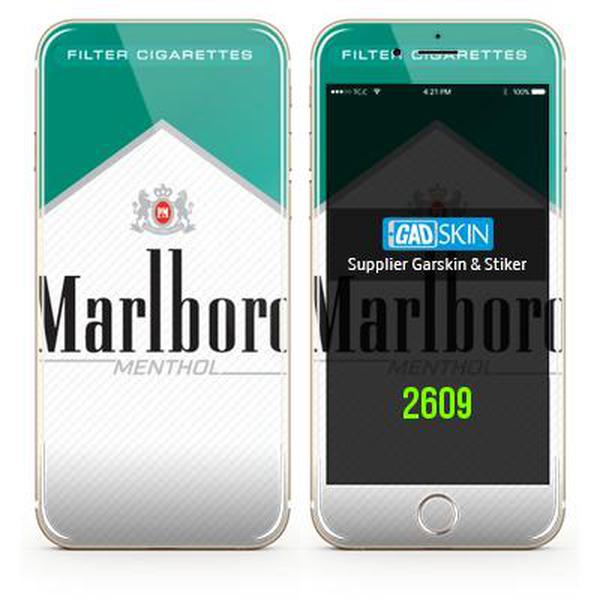marlboro_mentol: (45, 46, 285, 507)
